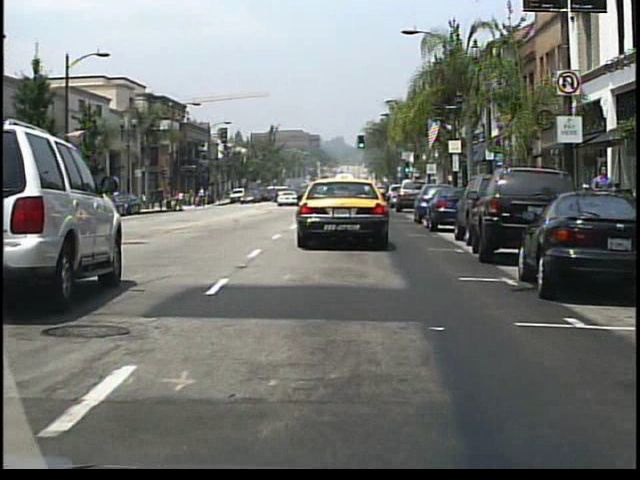person: (590, 163, 615, 232), (207, 190, 215, 208)
